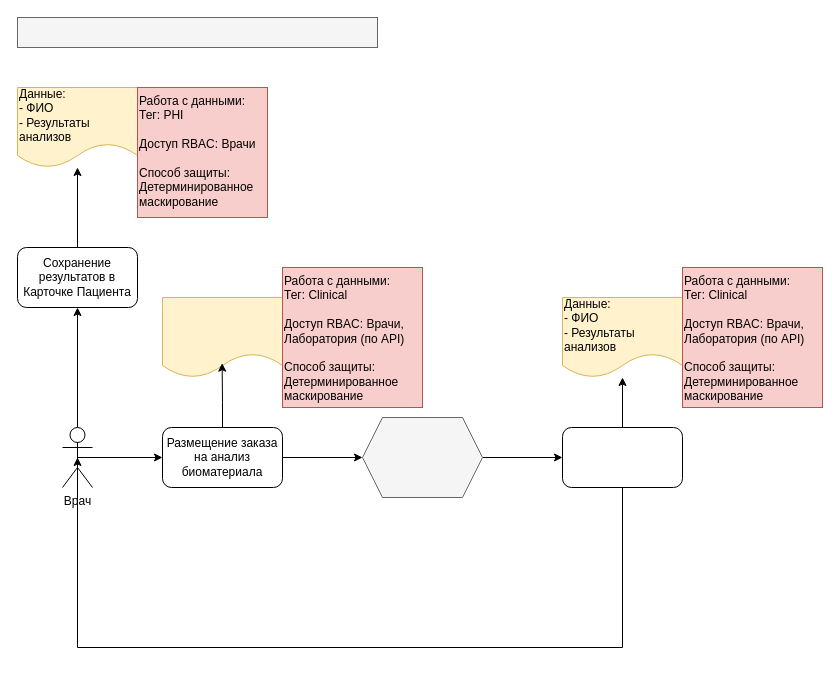
This 840x673 diagram has some shape labels left out. The centre of each missing label's shape, as x and y in pixels:
"Данные: - ФИО - Список анализов" goes at (x=222, y=337).
"Лаборатория" goes at (x=422, y=457).
"Процесс: Взаимодействие с лабораторией" goes at (x=197, y=32).
"Формирование результатов анализов" goes at (x=622, y=457).
